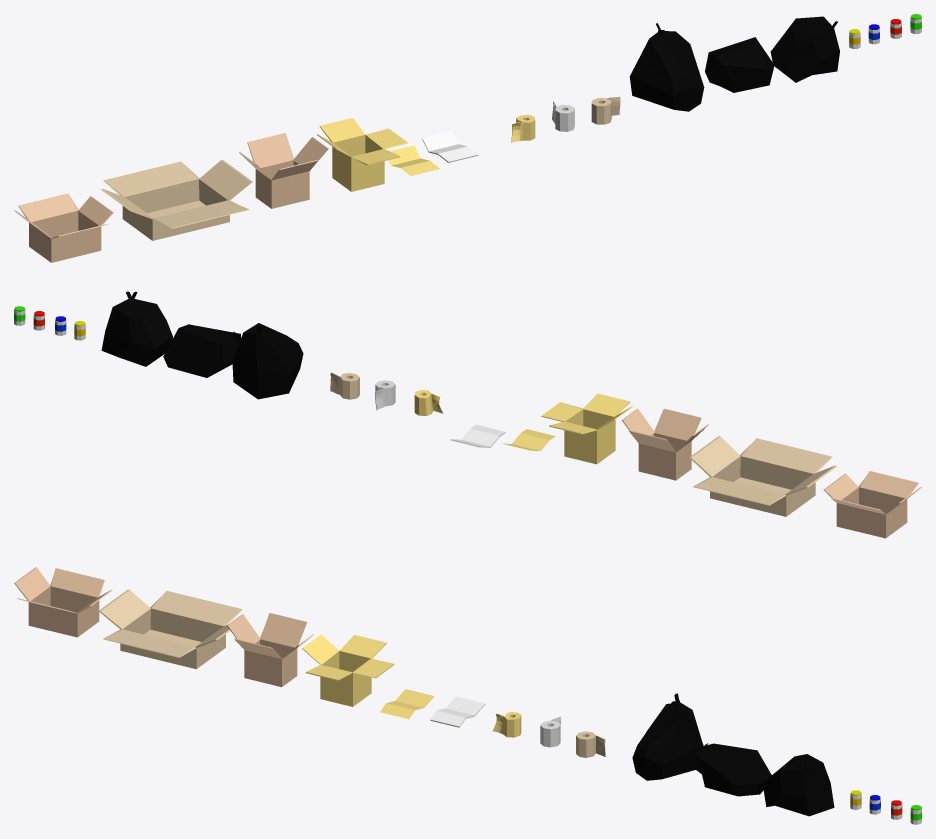
Rendered from LowPolyTrash.fbx.
3 views of the same model, one above another, from view 1: azimuth 30°, elevation 25°; view 2: azimuth 150°, elevation 25°; view 3: azimuth 330°, elevation 25° (orthographic).
Parts seen in each view (by area): view 1: Box 1, Box 4, Cube.005, Box 2, Box 3, Cube.001, Cube, Paper, Plane, Toilet Paper 3, Toilet Paper, Toilet Paper 2; view 2: Box 1, Box 4, Cube.005, Box 2, Box 3, Cube.001, Cube, Paper, Toilet Paper 3, Plane, Toilet Paper, Toilet Paper 2; view 3: Box 1, Box 4, Box 3, Cube.005, Box 2, Cube.001, Cube, Paper, Plane, Toilet Paper 3, Toilet Paper, Toilet Paper 2.
Part boxes in pixels (x1,y1,x2,y2): Box 1: [101, 160, 252, 240]; Box 4: [14, 193, 113, 262]; Cube.005: [629, 23, 704, 111]; Box 2: [239, 133, 328, 208]; Box 3: [317, 118, 407, 191]; Cube.001: [770, 16, 839, 82]; Cube: [705, 37, 774, 92]; Paper: [422, 131, 478, 162]; Plane: [388, 145, 439, 175]; Toilet Paper 3: [591, 96, 620, 124]; Toilet Paper: [511, 114, 535, 142]; Toilet Paper 2: [552, 101, 574, 131]; Box 1: [689, 436, 837, 516]; Box 4: [823, 471, 921, 538]; Cube.005: [232, 323, 303, 399]; Box 2: [621, 408, 708, 480]; Box 3: [541, 393, 633, 464]; Cube.001: [101, 291, 172, 366]; Cube: [163, 324, 240, 377]; Paper: [450, 424, 505, 447]; Toilet Paper 3: [330, 372, 359, 399]; Plane: [502, 429, 555, 450]; Toilet Paper: [414, 390, 443, 415]; Toilet Paper 2: [375, 380, 395, 410]; Box 1: [98, 589, 242, 669]; Box 4: [14, 567, 112, 637]; Box 3: [302, 634, 394, 706]; Cube.005: [632, 693, 702, 780]; Box 2: [227, 613, 313, 687]; Cube.001: [763, 754, 834, 816]; Cube: [694, 741, 771, 796]; Paper: [430, 696, 485, 727]; Plane: [380, 689, 434, 719]; Toilet Paper 3: [576, 731, 605, 757]; Toilet Paper: [492, 712, 521, 737]; Toilet Paper 2: [540, 716, 560, 747].
Bounding box in the file's own units: 3942 × 297 × 504.
